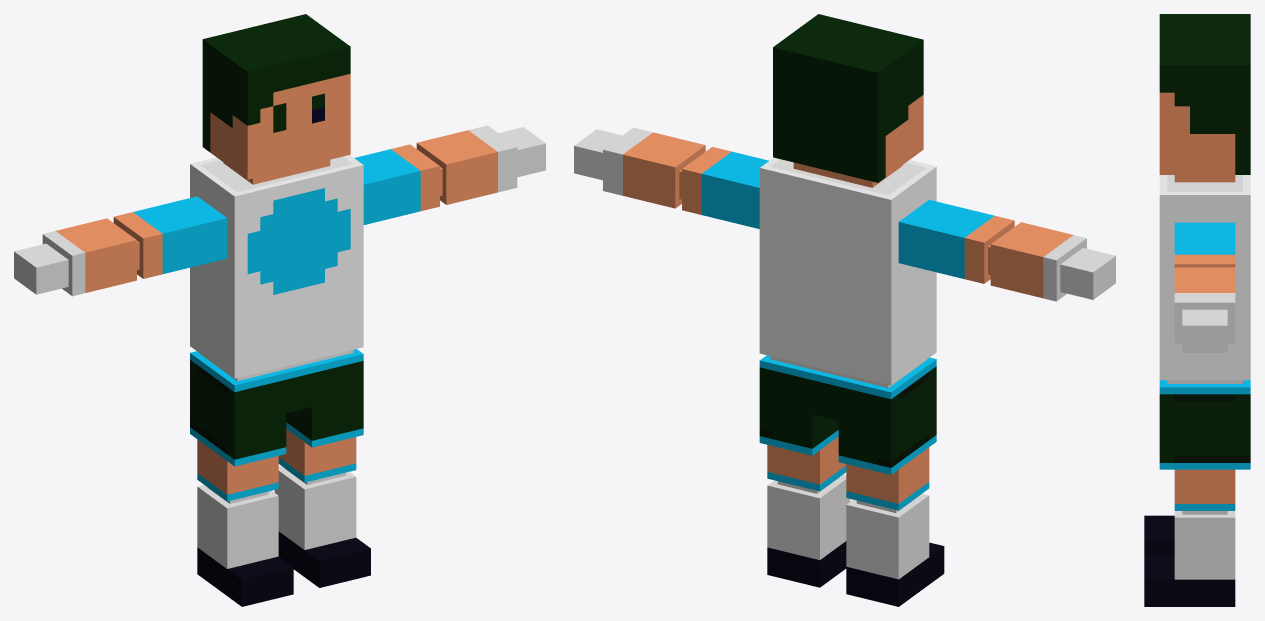
The model's file is keeper.glb.
3 renders of one model, left to right at view 1: azimuth 30°, elevation 25°; view 2: azimuth 150°, elevation 25°; view 3: azimuth 270°, elevation 25°, orthographic.
Parts seen in each view (by area): view 1: Mesh_0; view 2: Mesh_0; view 3: Mesh_0.
Part boxes in pixels (x1,y1,x2,y2): Mesh_0: [14, 14, 545, 606]; Mesh_0: [574, 14, 1115, 606]; Mesh_0: [1144, 14, 1250, 606].
Bounding box in the file's own units: 7.9 × 7.8 × 1.4.
Materials: 1 (1 with a texture image).
